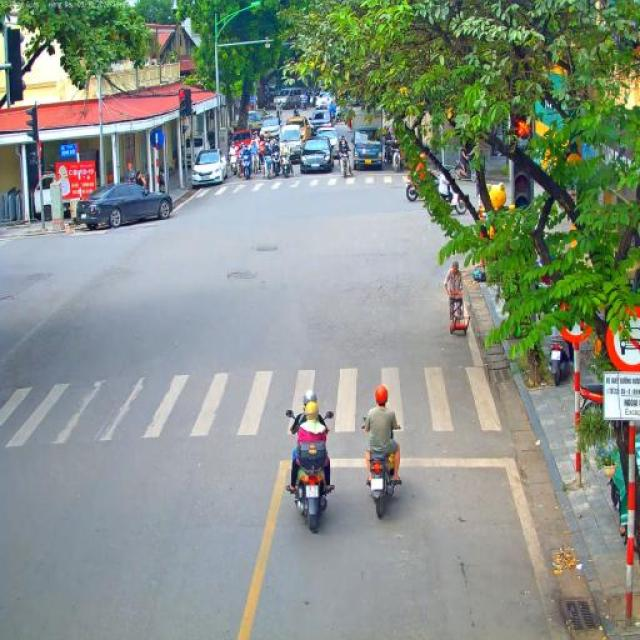car: (76, 180, 174, 230), (192, 148, 228, 187), (300, 136, 334, 174), (280, 124, 306, 164), (314, 130, 340, 166), (286, 116, 312, 146), (258, 116, 283, 146), (310, 108, 334, 136), (318, 121, 338, 141), (315, 91, 333, 110)
motorcycle: (286, 408, 336, 534), (361, 416, 404, 520), (545, 331, 573, 387), (426, 187, 466, 217), (580, 381, 604, 415), (406, 165, 426, 203), (453, 159, 478, 182), (338, 150, 353, 178), (388, 146, 404, 172), (279, 152, 295, 178), (239, 154, 253, 180), (261, 154, 274, 180), (229, 154, 241, 178), (251, 149, 260, 173), (272, 149, 280, 175), (300, 92, 308, 114), (276, 105, 282, 126)
truck: (350, 111, 386, 171), (229, 109, 262, 152), (274, 88, 301, 110)
